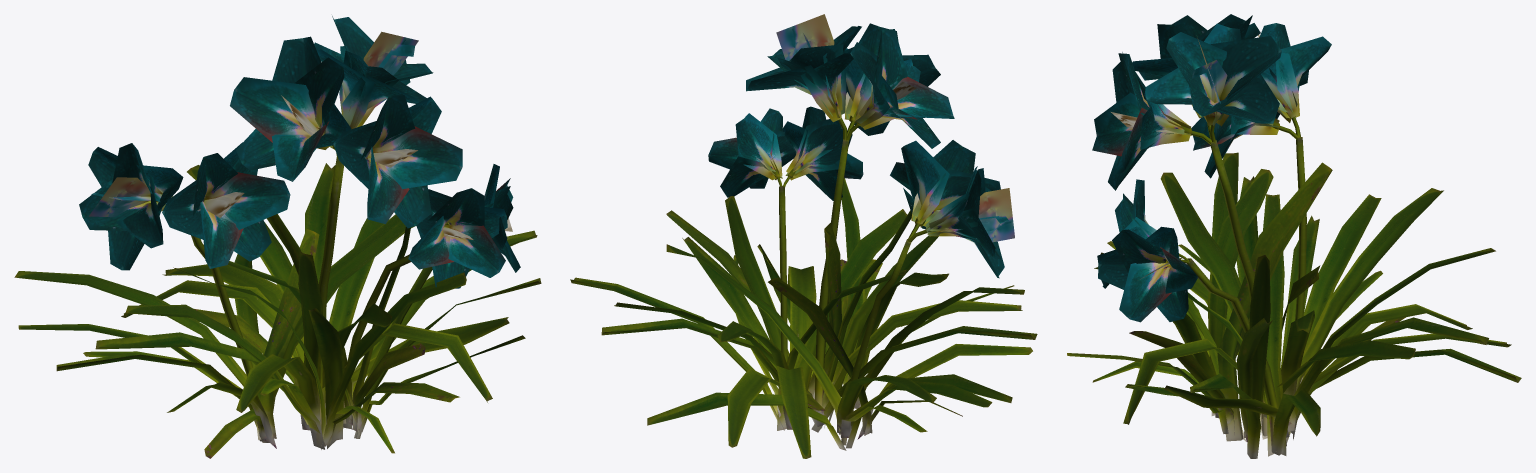
File: Amaryllis_bush_short_cyan.glb
3 renders of one model, left to right at view 1: azimuth 30°, elevation 25°; view 2: azimuth 150°, elevation 25°; view 3: azimuth 270°, elevation 25°, orthographic. The views are drawn at different scales.
Parts seen in each view (by area): view 1: bush; view 2: bush; view 3: bush.
Part boxes in pixels (x1,y1,x2,y2): bush: (14,16,541,458); bush: (570,14,1037,458); bush: (1067,14,1521,458).
Size of the model in its own units: 2.76 by 2.32 by 2.27.
Materials: 1 (1 with a texture image).
